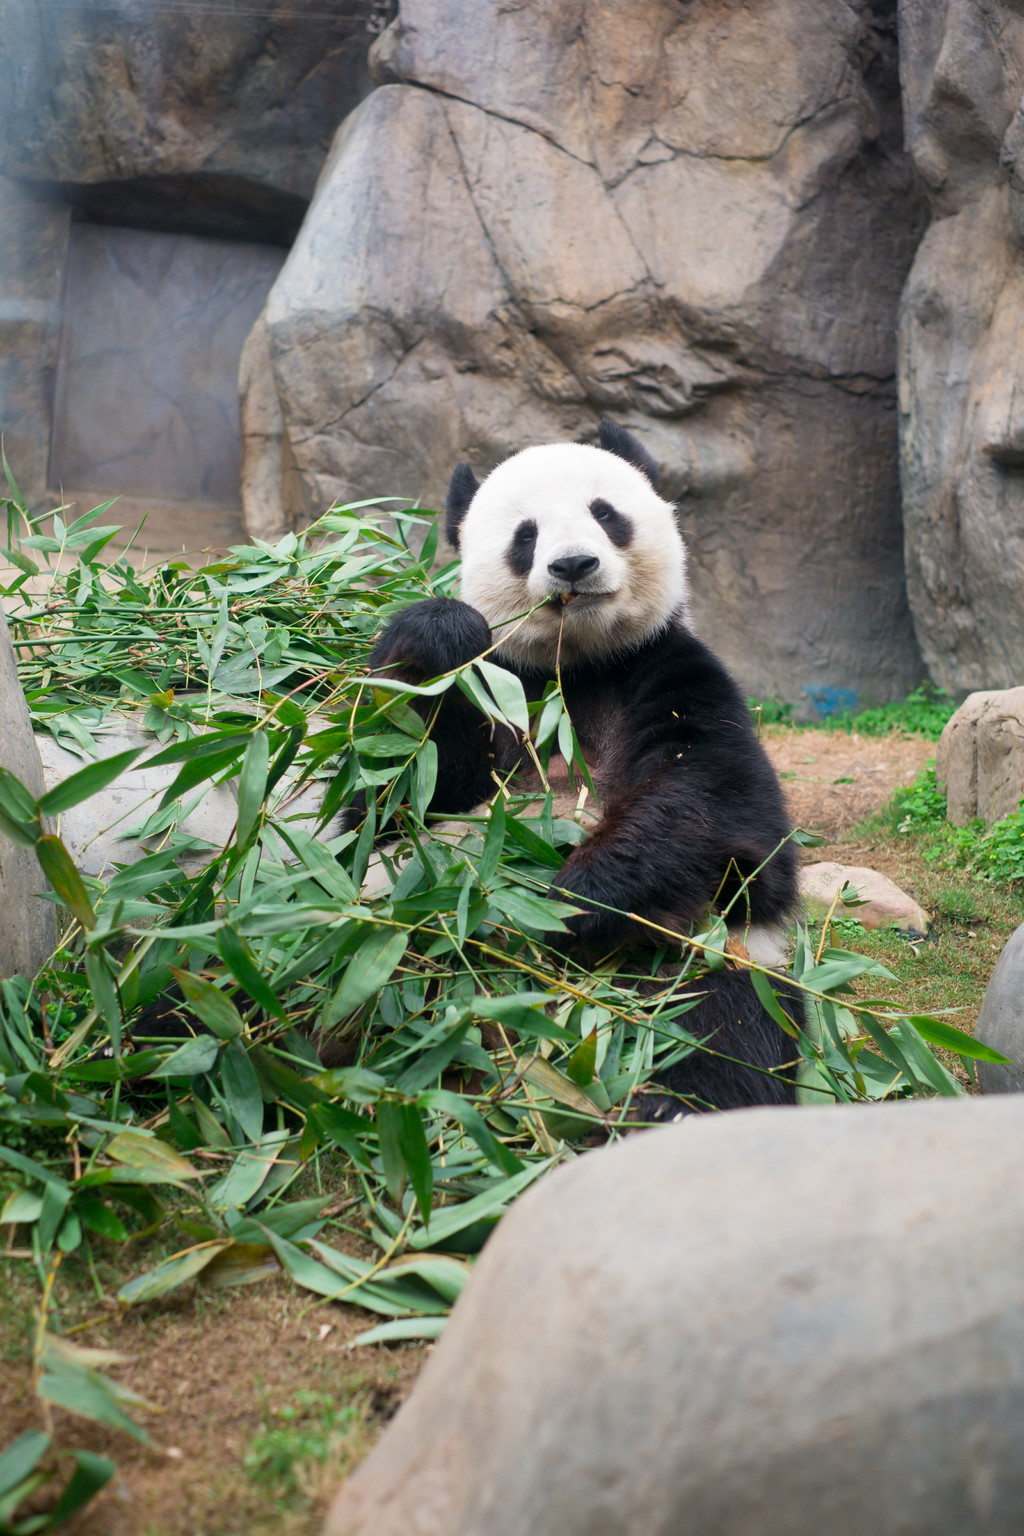panda: (360, 434, 843, 1152)
